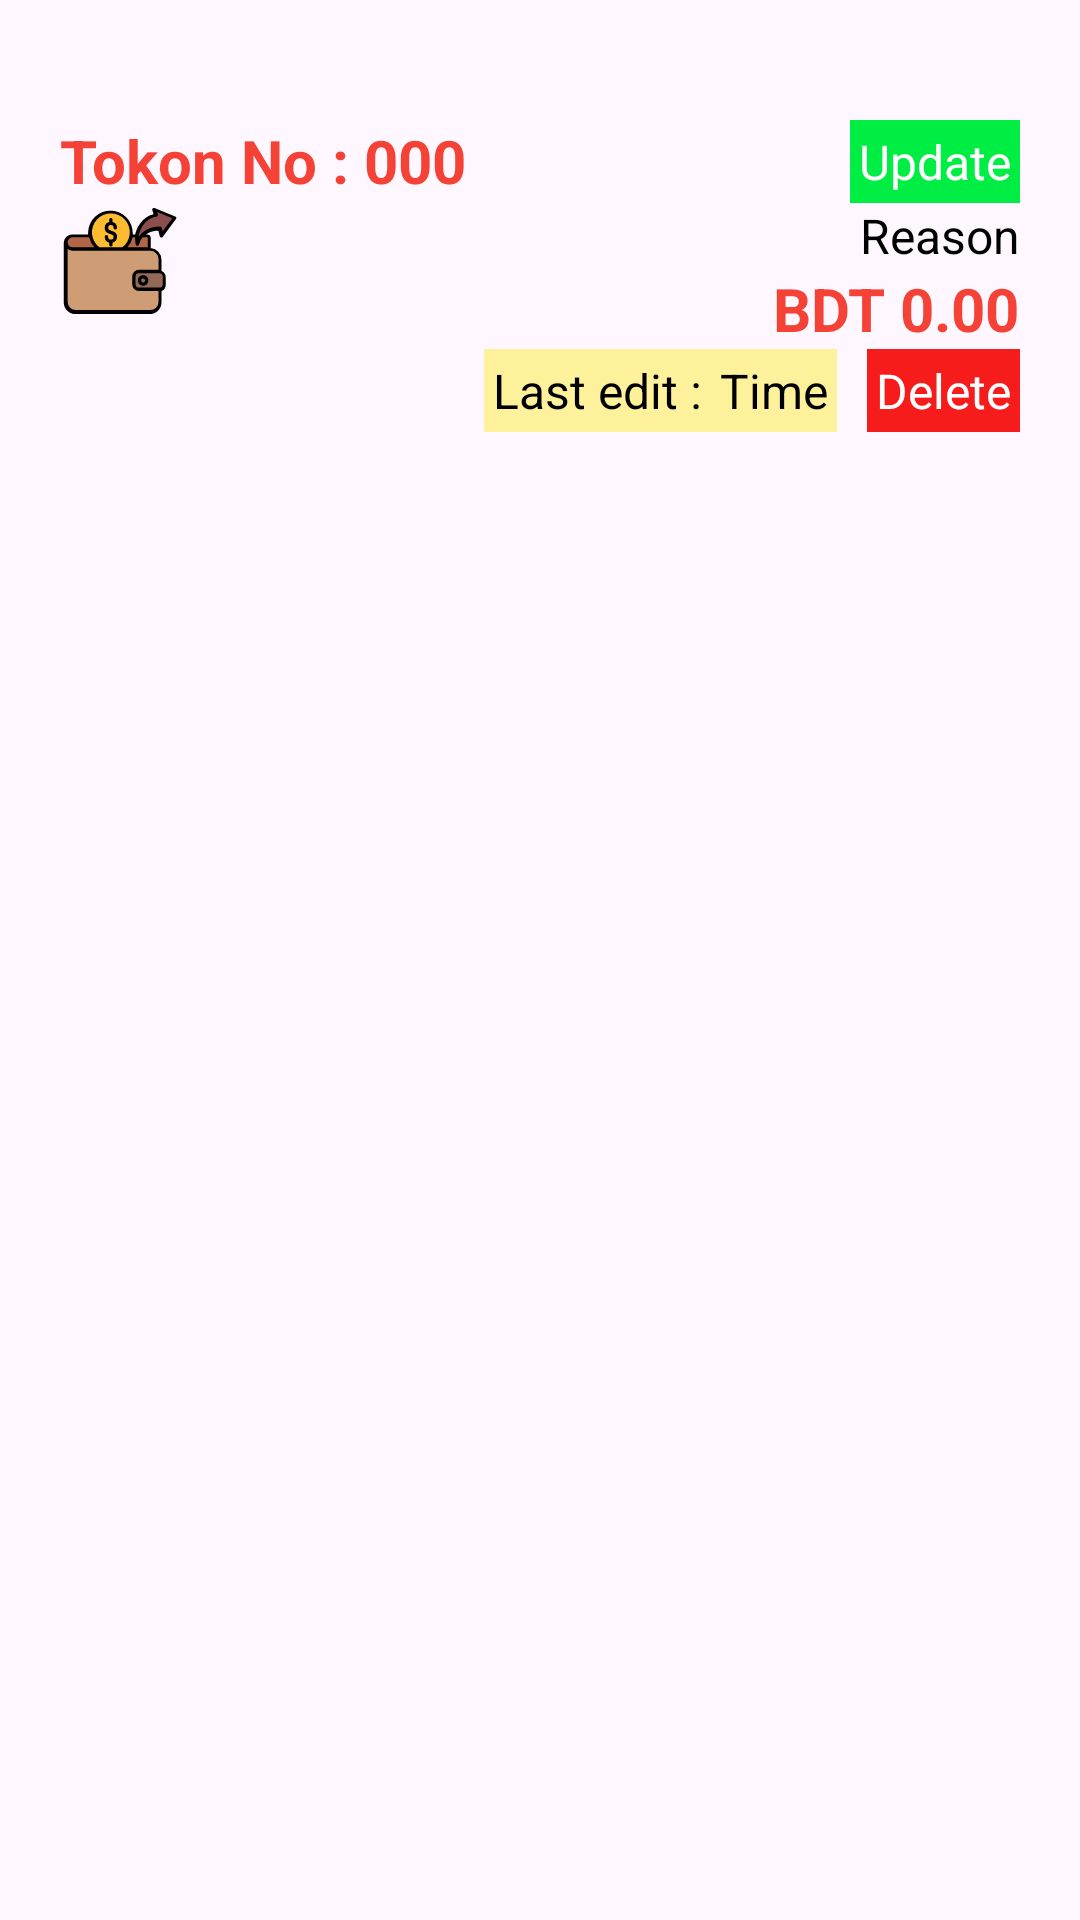

Where icons sit on this 1080w x 1920h app screen, as (x1, y1, x2, y2):
expense: (63, 208, 177, 314)
